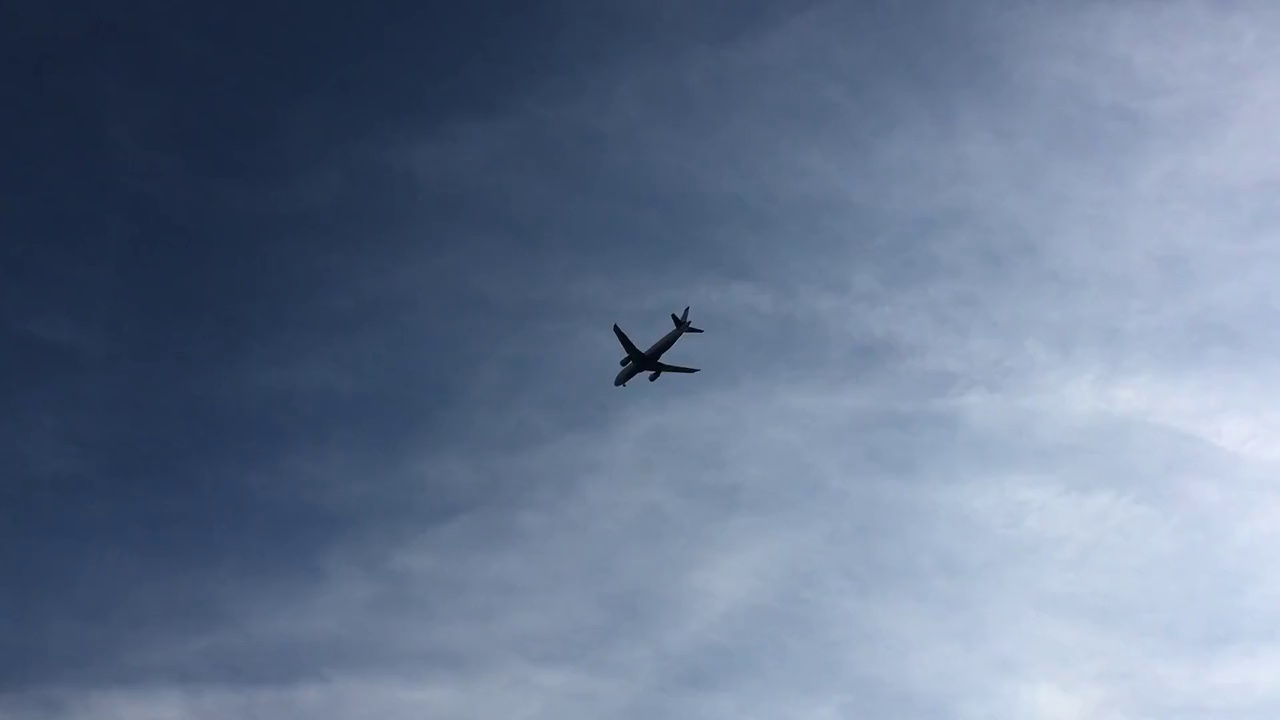plane: (611, 307, 702, 390)
